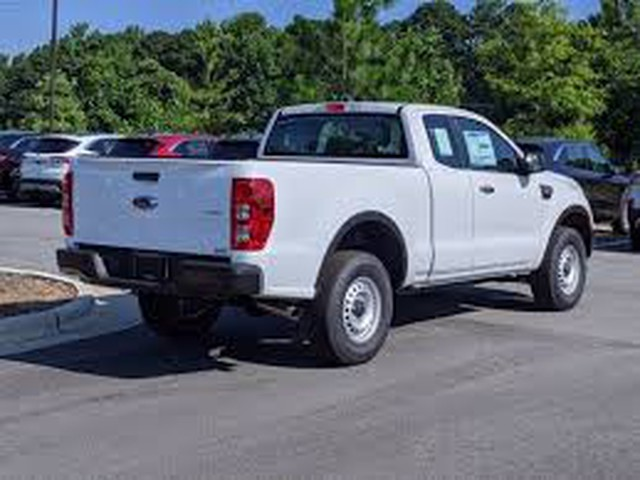Vehicle: (51, 97, 605, 365)
